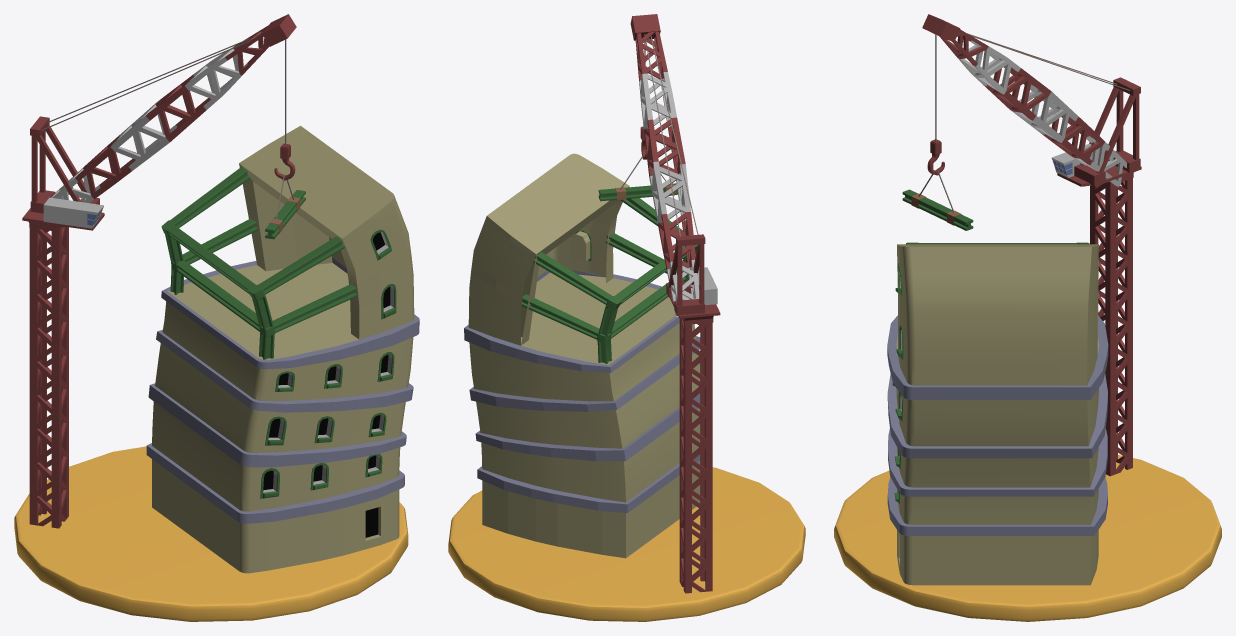
File: steage_1.fbx
3 renders of one model, left to right at view 1: azimuth 30°, elevation 25°; view 2: azimuth 150°, elevation 25°; view 3: azimuth 270°, elevation 25°, orthographic. The views are drawn at different scales.
Visible parts, largest first — view 1: polySurface46, pCylinder4, polySurface45, polySurface48, polySurface47; view 2: polySurface46, pCylinder4, polySurface45, polySurface48, polySurface47; view 3: polySurface46, pCylinder4, polySurface45, polySurface47, polySurface48.
Part boxes in pixels (x1,y1,x2,y2): polySurface46: (146, 125, 419, 573); pCylinder4: (14, 446, 408, 621); polySurface45: (22, 14, 305, 528); polySurface48: (161, 166, 396, 498); polySurface47: (148, 383, 406, 467); polySurface46: (464, 153, 700, 558); pCylinder4: (448, 467, 805, 621); polySurface45: (598, 14, 720, 593); polySurface48: (521, 198, 697, 363); polySurface47: (475, 393, 700, 461); polySurface46: (887, 244, 1108, 585); pCylinder4: (834, 455, 1221, 621); polySurface45: (902, 14, 1141, 476); polySurface47: (888, 428, 1107, 496); polySurface48: (892, 242, 1089, 503).
Bounding box in the file's own units: 395 × 603 × 395.
